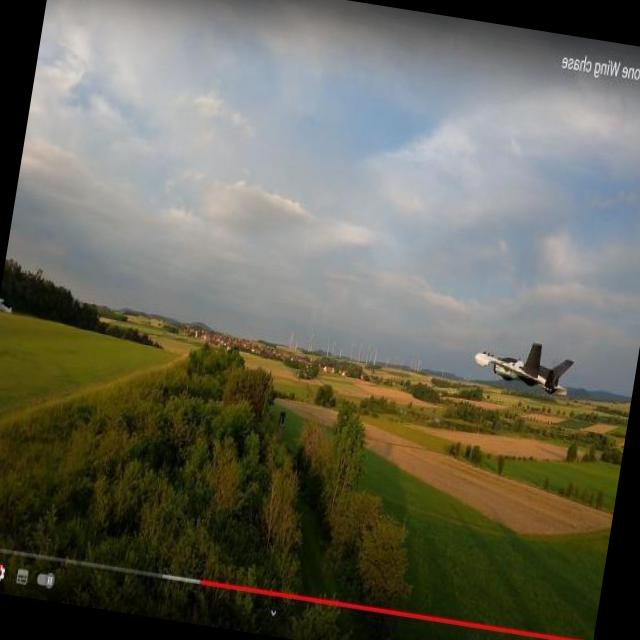UAV: (441, 324, 578, 424)
